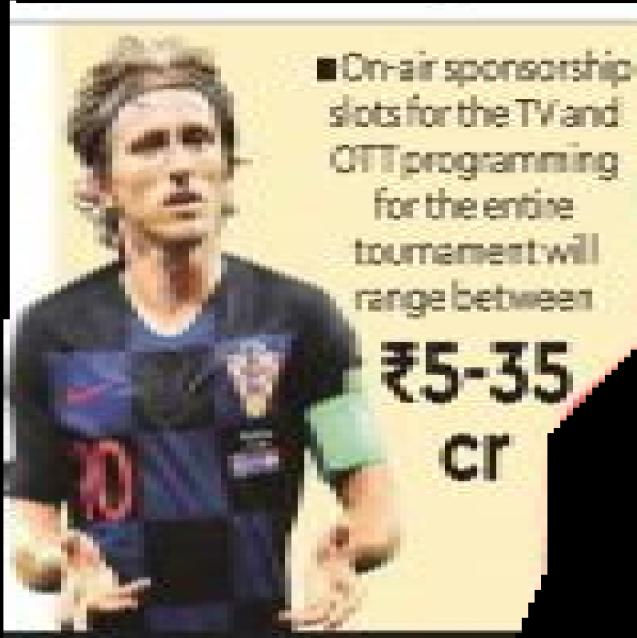paper: (1, 0, 637, 638)
